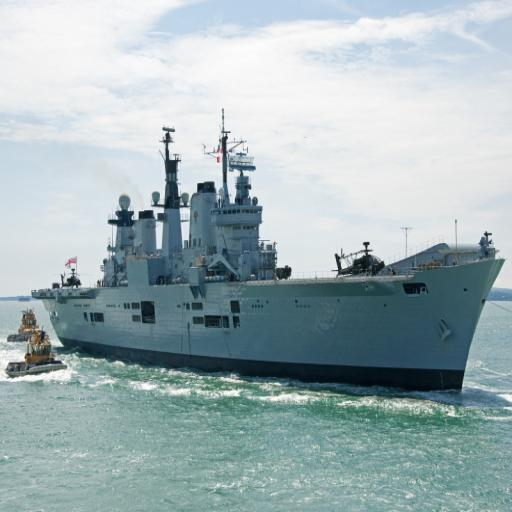Portanaves: (31, 107, 506, 400)
